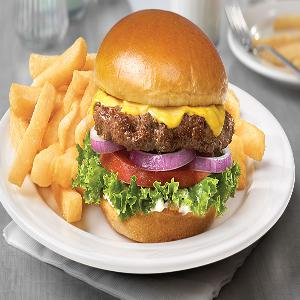cheeseburger: (93, 1, 259, 250)
fries: (4, 31, 93, 220)
